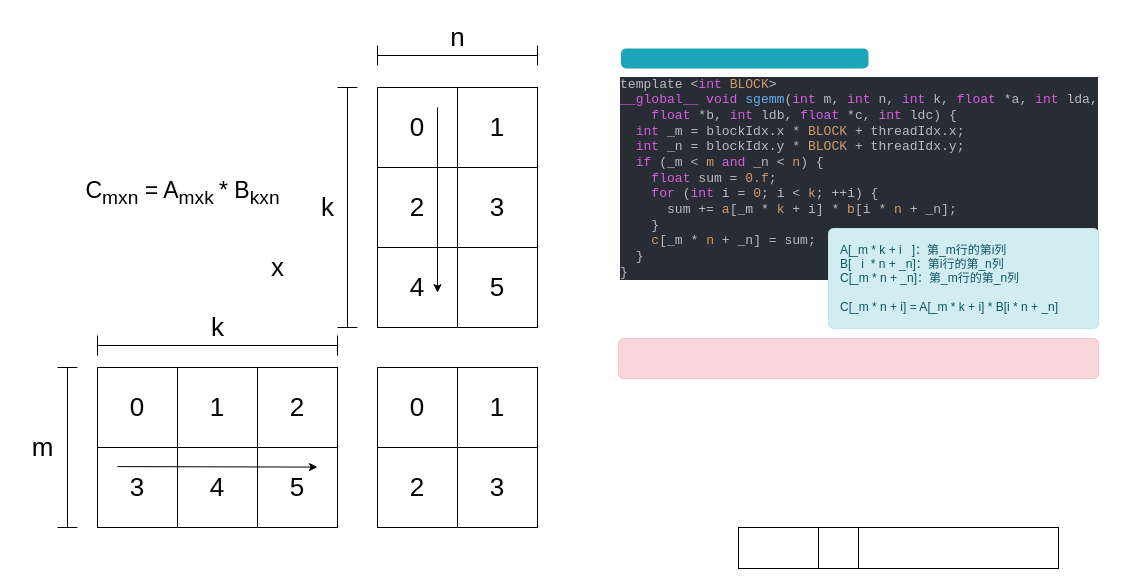
The diagram is 1135 pixels wide and 586 high, and some of its shapes have lost their labels. The centre of each missing label's shape, as x and y in pixels:
100B: point (958, 547)
16B: point (778, 547)
8B: point (838, 547)
Navie实现：MMult_cuda_2.cu: point (744, 58)
每个thread都在global memory（全局内存）上处理，花费473cycle向reg搬运。: point (858, 358)
